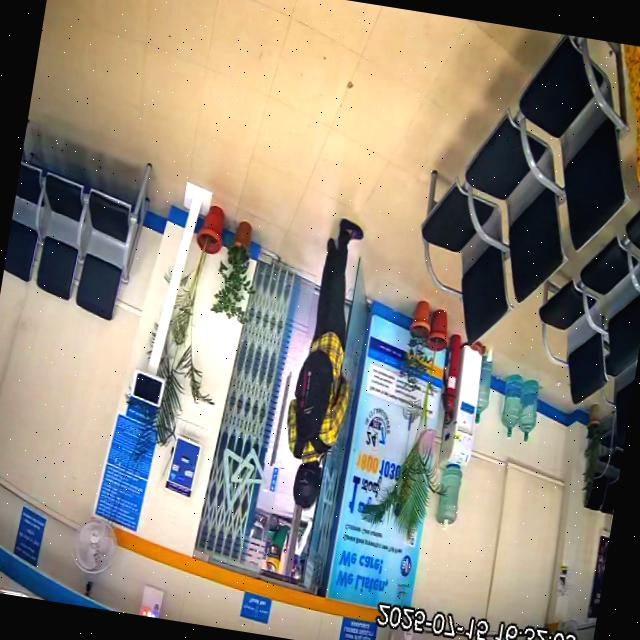helmet: (293, 462, 321, 511)
